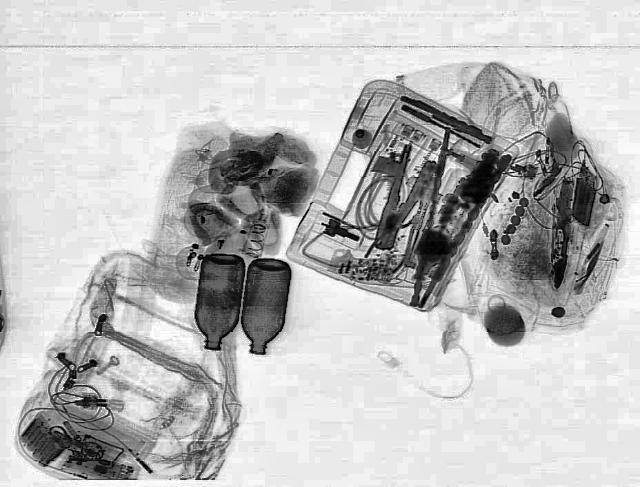Pliers: (362, 154, 438, 251)
